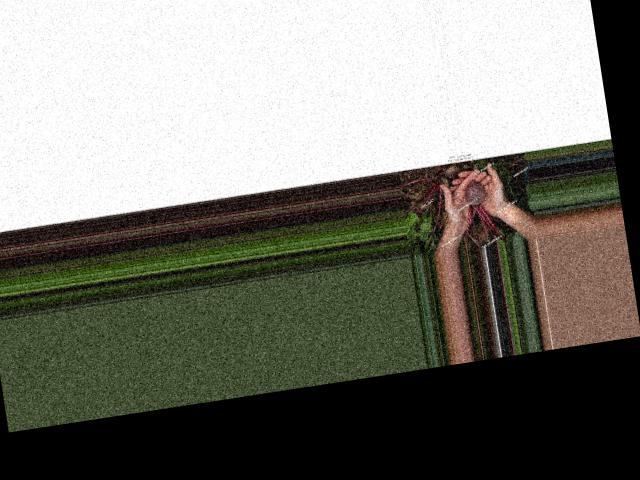beet: (457, 176, 506, 247)
